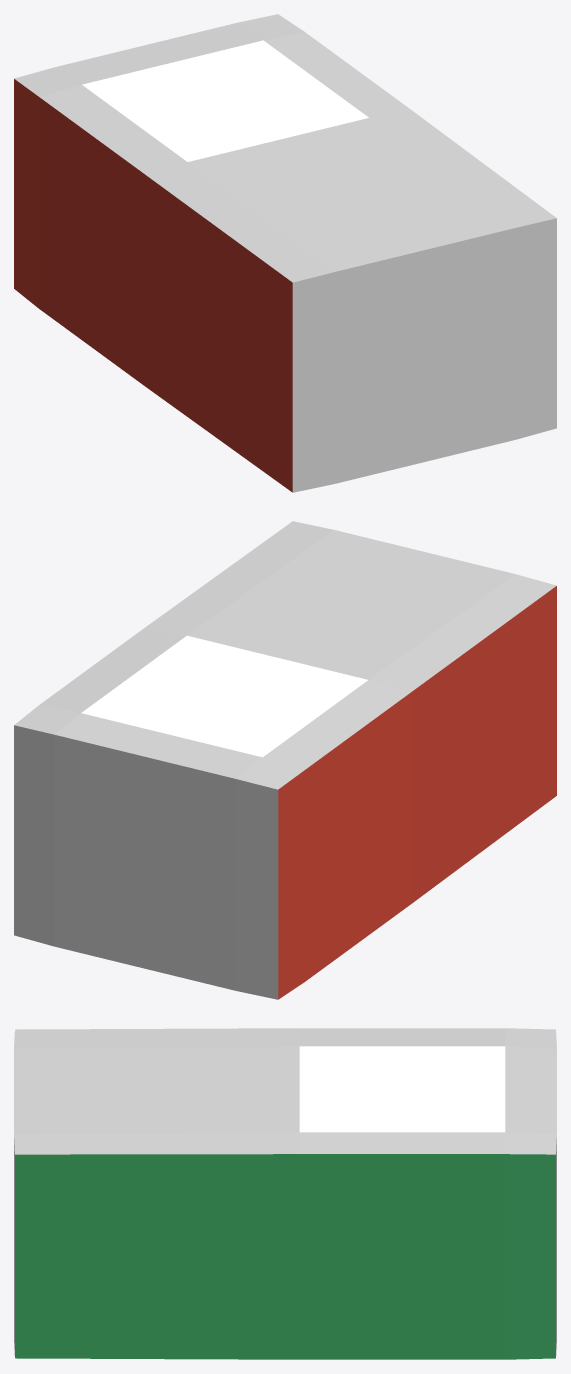
File: cornell.glb
The picture shows the model from 3 angles, top to bottom: view 1: azimuth 30°, elevation 25°; view 2: azimuth 150°, elevation 25°; view 3: azimuth 270°, elevation 25°; orthographic projection. The views are drawn at different scales.
Visible parts, largest first — view 1: Room; view 2: Room; view 3: Room.
Part boxes in pixels (x1,y1,x2,y2): Room: (14,14,556,492); Room: (14,521,556,999); Room: (14,1028,556,1359).
Size of the model in its own units: 4 by 3.1 by 7.28.
